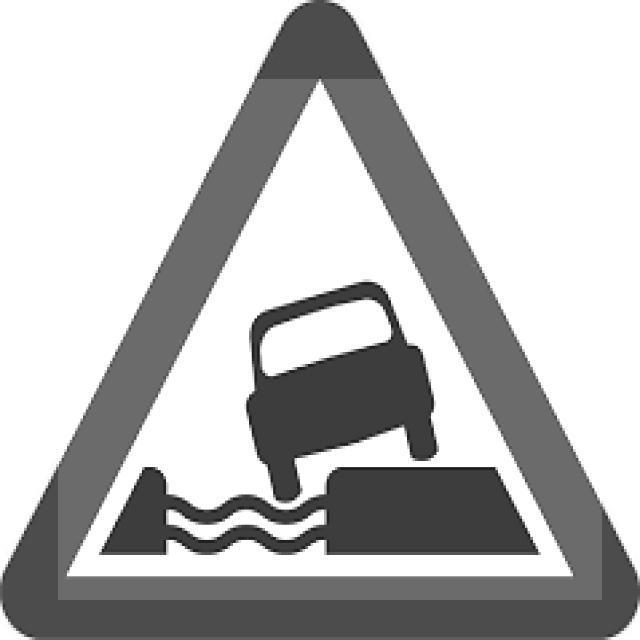quay side or river bank: (17, 15, 627, 619)
